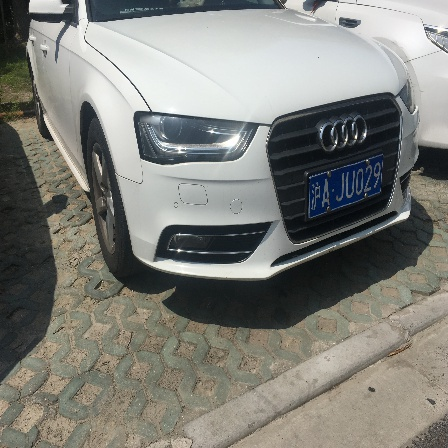plate: (305, 155, 388, 216)
